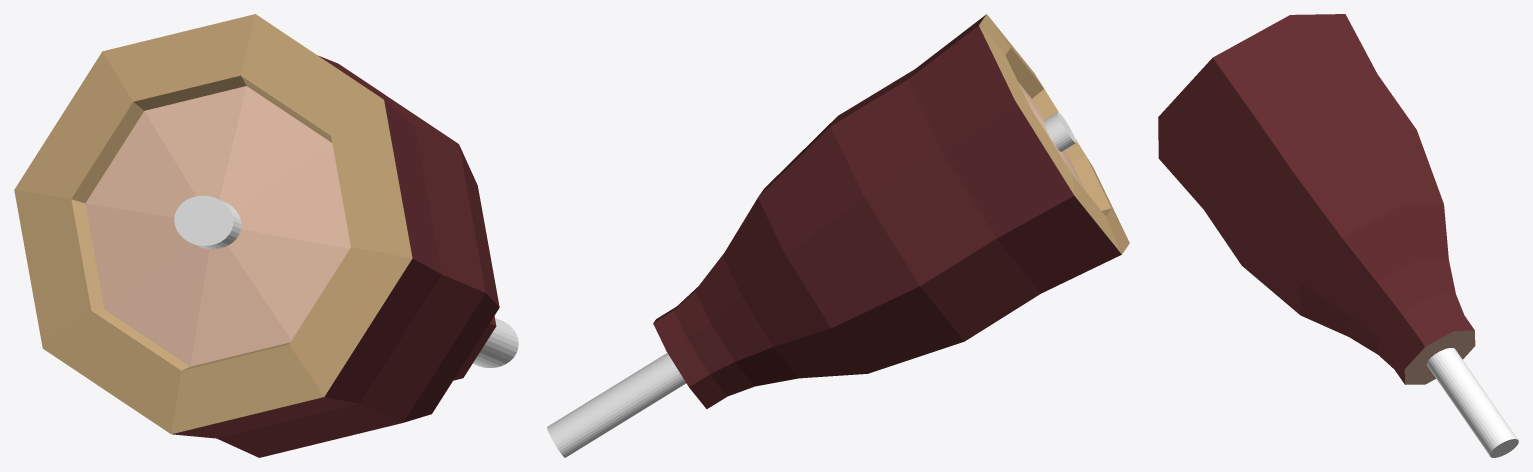
The model's file is carne.fbx.
The picture shows the model from 3 angles, left to right: view 1: azimuth 30°, elevation 25°; view 2: azimuth 150°, elevation 25°; view 3: azimuth 270°, elevation 25°; orthographic projection. The views are drawn at different scales.
Visible parts, largest first — view 1: Circle; view 2: Circle; view 3: Circle.
Boxes of the visible parts, left/top/right/bottom form: Circle: left=14, top=14, right=518, bottom=457; Circle: left=547, top=14, right=1129, bottom=457; Circle: left=1158, top=14, right=1518, bottom=457.
Bounding box in the file's own units: 351 × 303 × 301.
